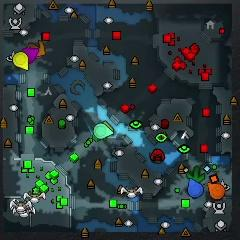p1: (186, 178, 203, 199)
p2: (94, 124, 113, 140)
p3: (19, 47, 38, 63)
p4: (13, 51, 29, 71)
p5: (207, 182, 225, 200)
x2: (103, 120, 116, 133)
x4: (186, 166, 205, 182)
x5: (29, 41, 45, 57)
